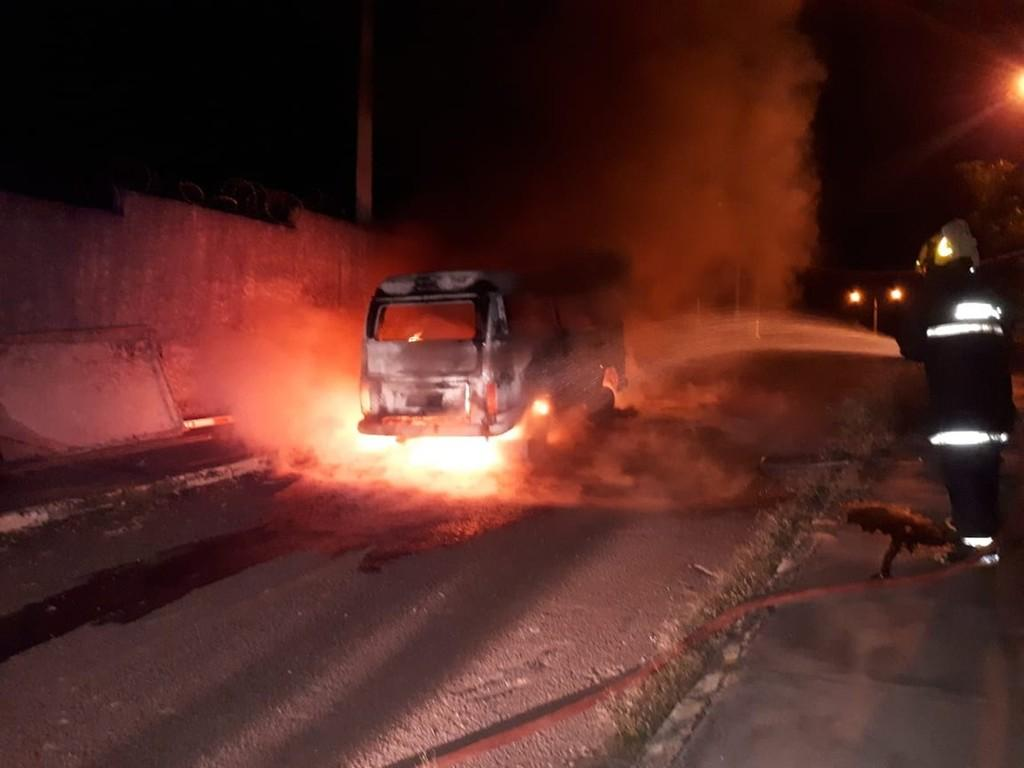fire: (353, 430, 506, 483)
smoke: (670, 3, 818, 292), (198, 279, 344, 451)
